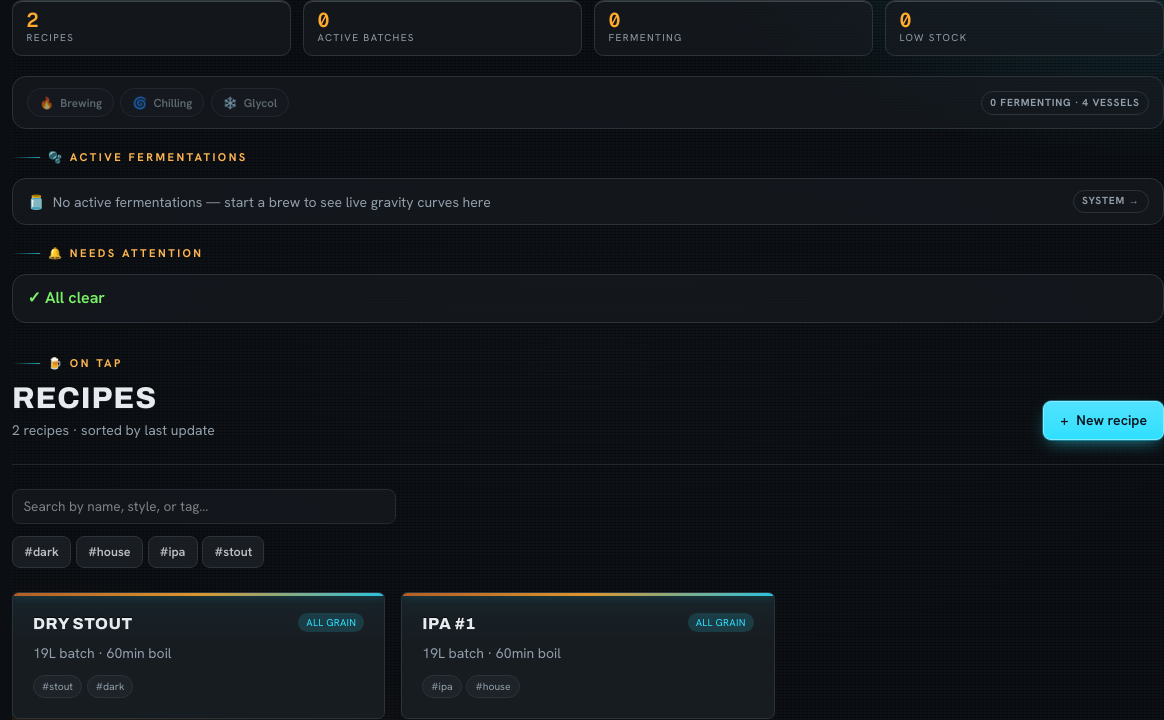
Test: RecipeListView › filters the grid as you type in the search box
The width and height of the screenshot is (1164, 720).
Expected: the heading "IPA #1" is shown, top-left (422, 613), bottom-right (476, 635)
Expected: the heading "Dry Stout" is shown, top-left (33, 613), bottom-right (133, 635)
Type "stout" into the search field named "search recipes" at (204, 506), box top-left (12, 488), bottom-right (396, 524)
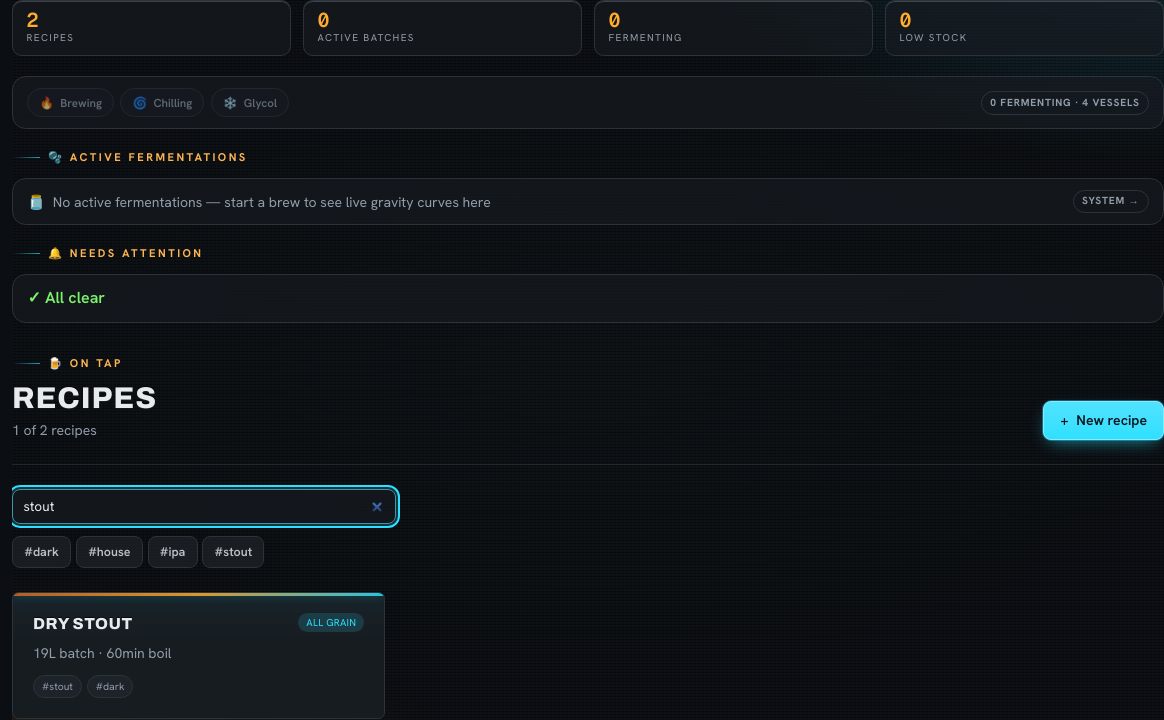
Expected: the heading "Dry Stout" is shown, top-left (33, 613), bottom-right (133, 635)
Now the link "IPA #1" is gone
